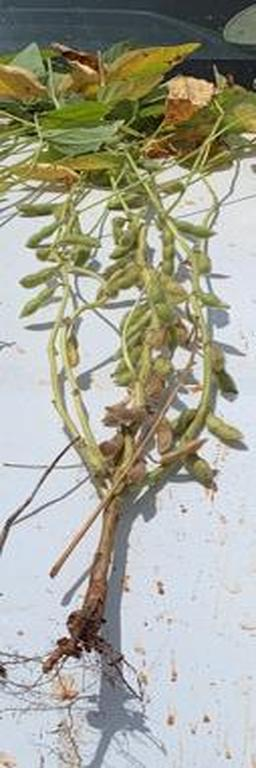pod: (19, 283, 58, 321), (211, 352, 237, 397), (25, 218, 62, 249), (208, 415, 245, 445), (188, 456, 217, 488), (194, 288, 232, 311), (176, 217, 215, 237), (161, 230, 176, 276), (69, 335, 82, 367)
soy: (7, 35, 249, 699)
